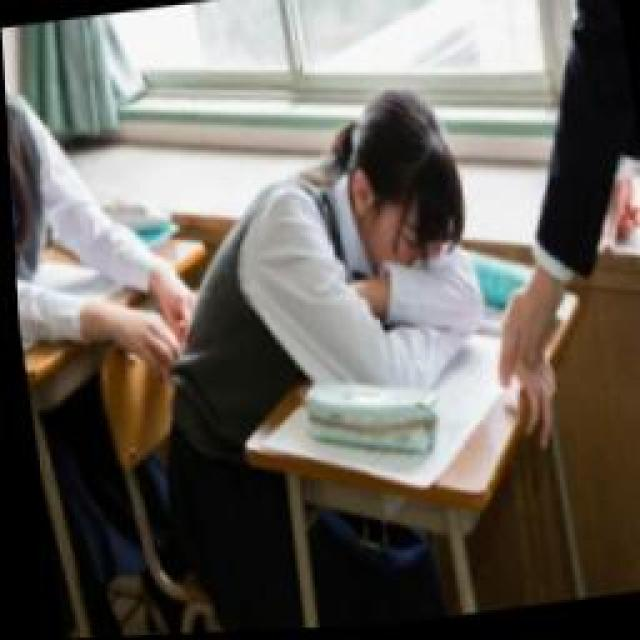sleep: (172, 80, 490, 425)
